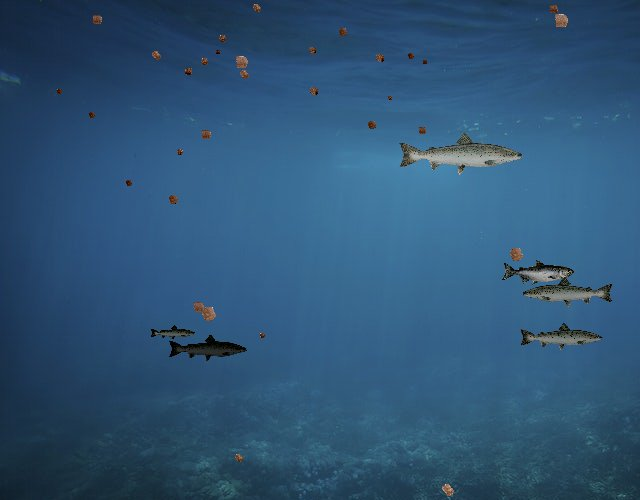Fish: (396, 130, 525, 176), (521, 275, 615, 309), (518, 321, 604, 352), (167, 334, 248, 363), (501, 259, 574, 286), (150, 325, 197, 342)
Pellet: (194, 298, 224, 328), (434, 477, 461, 500), (187, 296, 210, 319), (370, 48, 389, 67), (230, 449, 248, 467), (172, 145, 187, 160), (122, 176, 136, 190), (256, 329, 268, 341)
